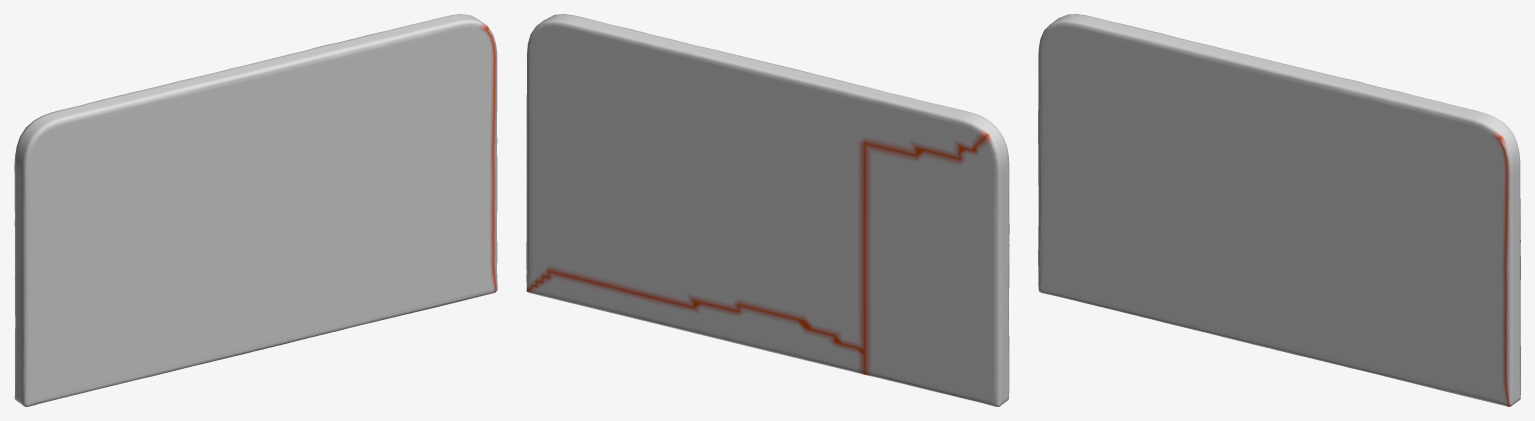
Rendered from w_wood_bottom_01.fbx.
3 renders of one model, left to right at view 1: azimuth 30°, elevation 25°; view 2: azimuth 150°, elevation 25°; view 3: azimuth 330°, elevation 25°, orthographic.
Parts seen in each view (by area): view 1: wood_bottom_01; view 2: wood_bottom_01; view 3: wood_bottom_01.
Part boxes in pixels (bbox=[...]): wood_bottom_01: bbox=[14, 14, 497, 406]; wood_bottom_01: bbox=[526, 14, 1009, 406]; wood_bottom_01: bbox=[1038, 14, 1520, 406].
Bounding box in the file's own units: 4.2 × 2.37 × 0.1713.
